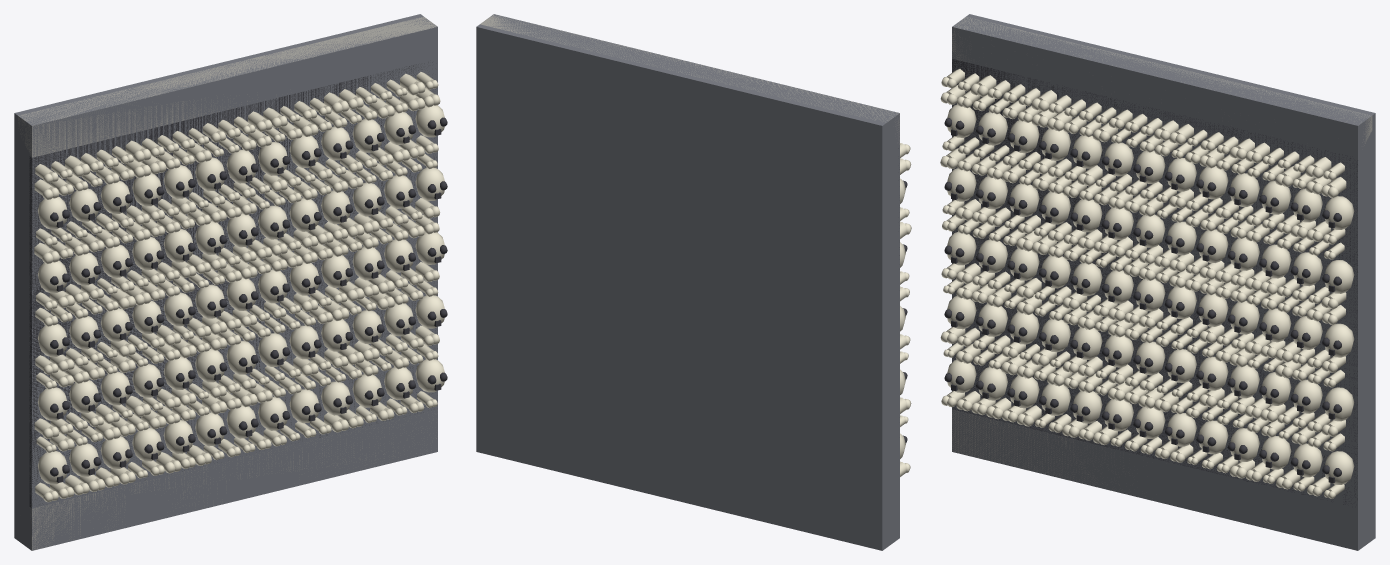
File: wall_cr_bones.glb
The picture shows the model from 3 angles, left to right: view 1: azimuth 30°, elevation 25°; view 2: azimuth 150°, elevation 25°; view 3: azimuth 330°, elevation 25°; orthographic projection.
Parts seen in each view (by area): view 1: wall_cr_bones; view 2: wall_cr_bones; view 3: wall_cr_bones.
Boxes of the visible parts, box(x1,y1,x2,y2) form: wall_cr_bones: box(14, 14, 447, 550); wall_cr_bones: box(476, 14, 911, 550); wall_cr_bones: box(940, 14, 1375, 550).
Bounding box in the file's own units: 4.01 × 4 × 0.5524.
